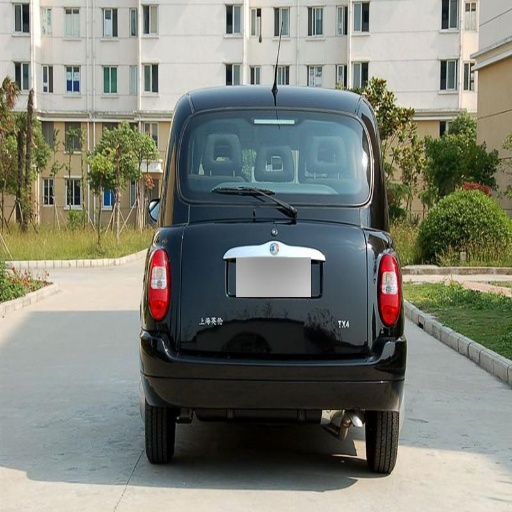back_bumper: (140, 331, 406, 426)
trunk: (158, 205, 384, 362)
